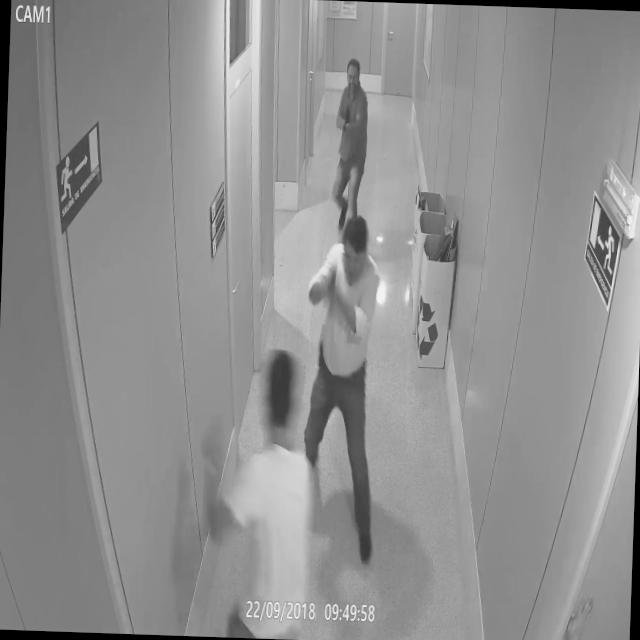gun: (322, 261, 339, 317), (339, 102, 352, 136)
person: (196, 343, 341, 640)
person with a gun: (295, 210, 398, 567), (327, 56, 372, 230)
